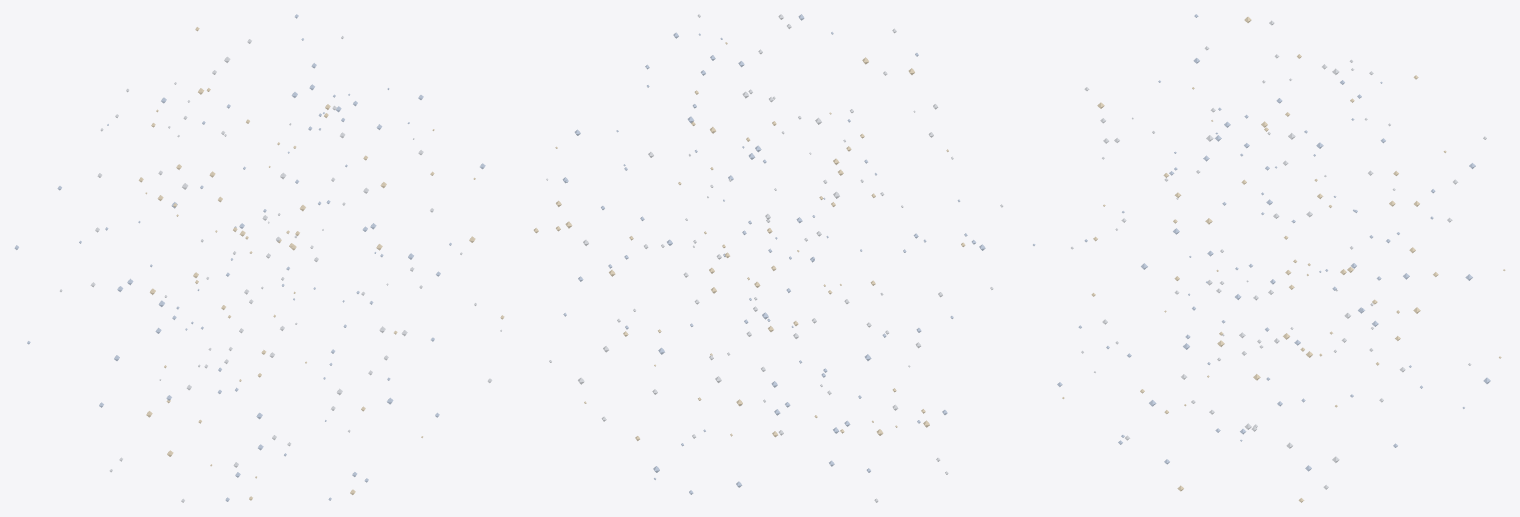
The picture shows the model from 3 angles, left to right: view 1: azimuth 30°, elevation 25°; view 2: azimuth 150°, elevation 25°; view 3: azimuth 270°, elevation 25°; orthographic projection. The views are drawn at different scales.
Size of the model in its own units: 4.8 by 4.91 by 4.73.
